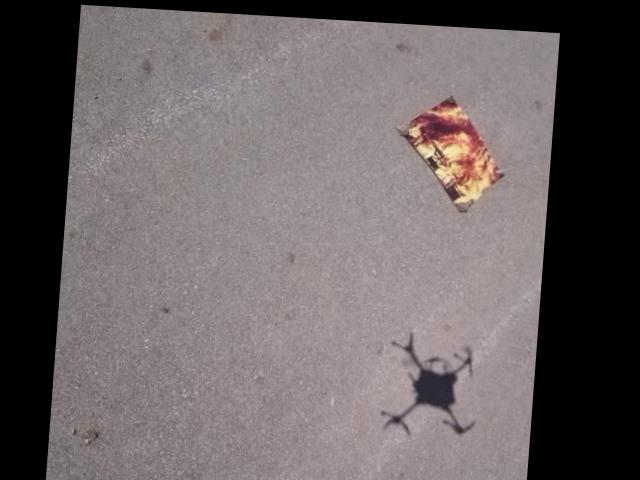fire-poster: (392, 87, 513, 211)
